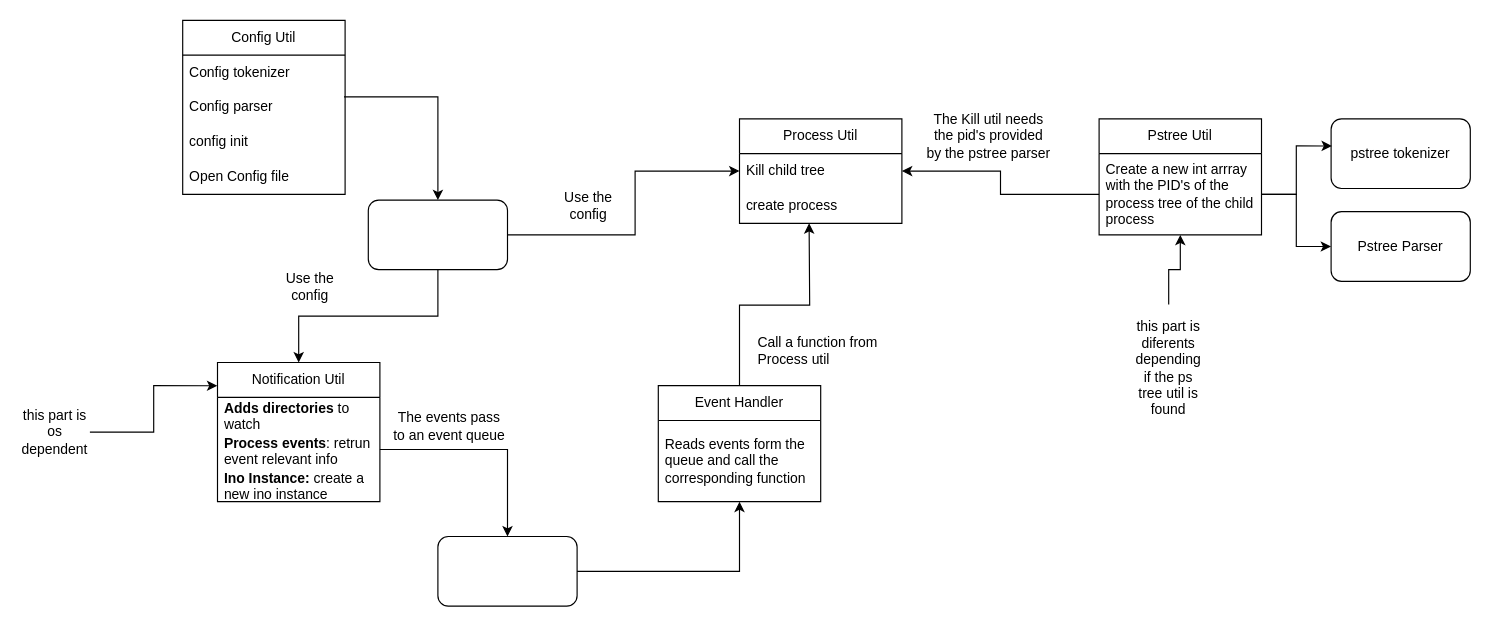
Image size: 1491x626. Some labels were removed from this diagram. Each missing label, with the centre of its shape:
Config Object: point 437,234
Event Queue: point 507,570
